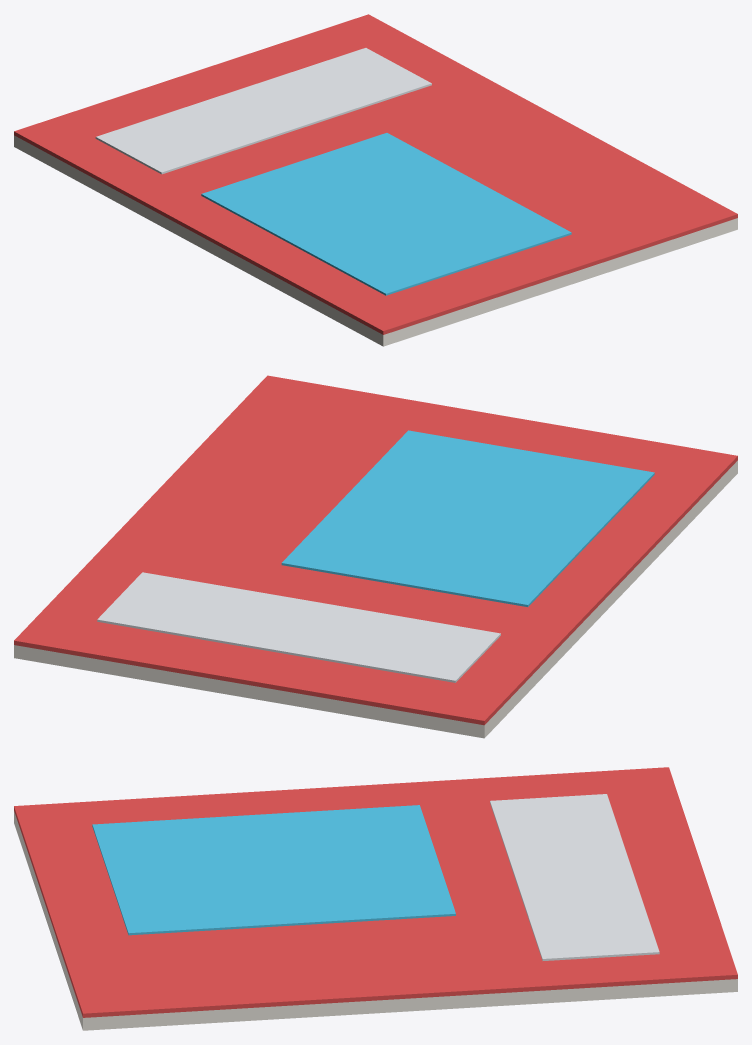
File: magazine.glb
The picture shows the model from 3 angles, top to bottom: view 1: azimuth 30°, elevation 25°; view 2: azimuth 150°, elevation 25°; view 3: azimuth 270°, elevation 25°; orthographic projection. The views are drawn at different scales.
Visible parts, largest first — view 1: magazine; view 2: magazine; view 3: magazine.
Boxes of the visible parts, <box> form: magazine: <box>14,14,737,346</box>; magazine: <box>14,375,737,738</box>; magazine: <box>14,767,737,1030</box>.
Size of the model in its own units: 0.2469 by 0.009 by 0.3065.
